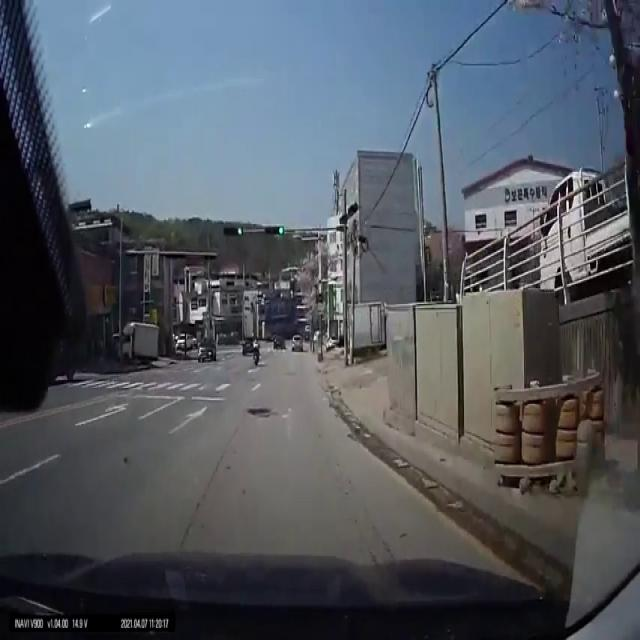Pothole: (247, 406, 273, 418)
